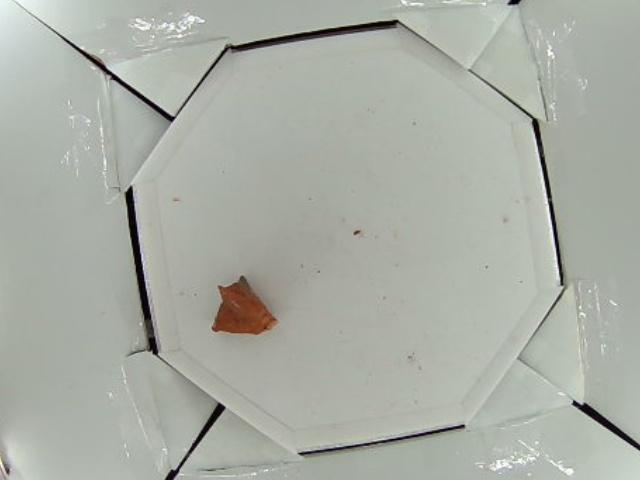Brisk: (212, 275, 279, 335)
